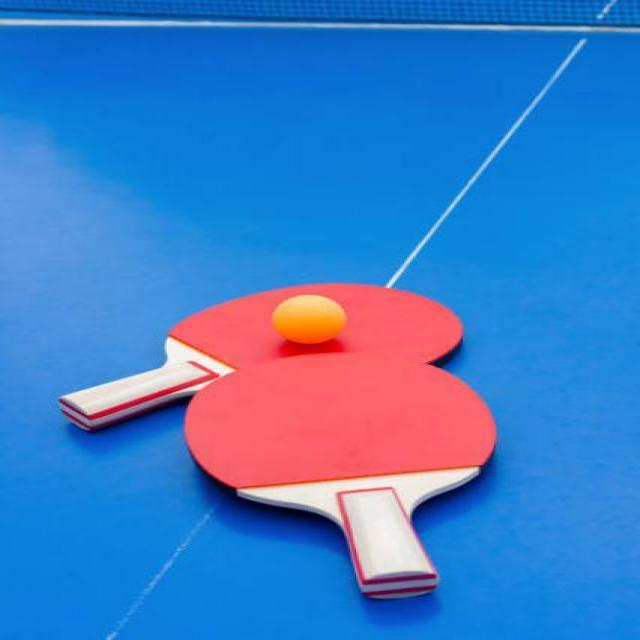oball: (278, 292, 344, 346)
